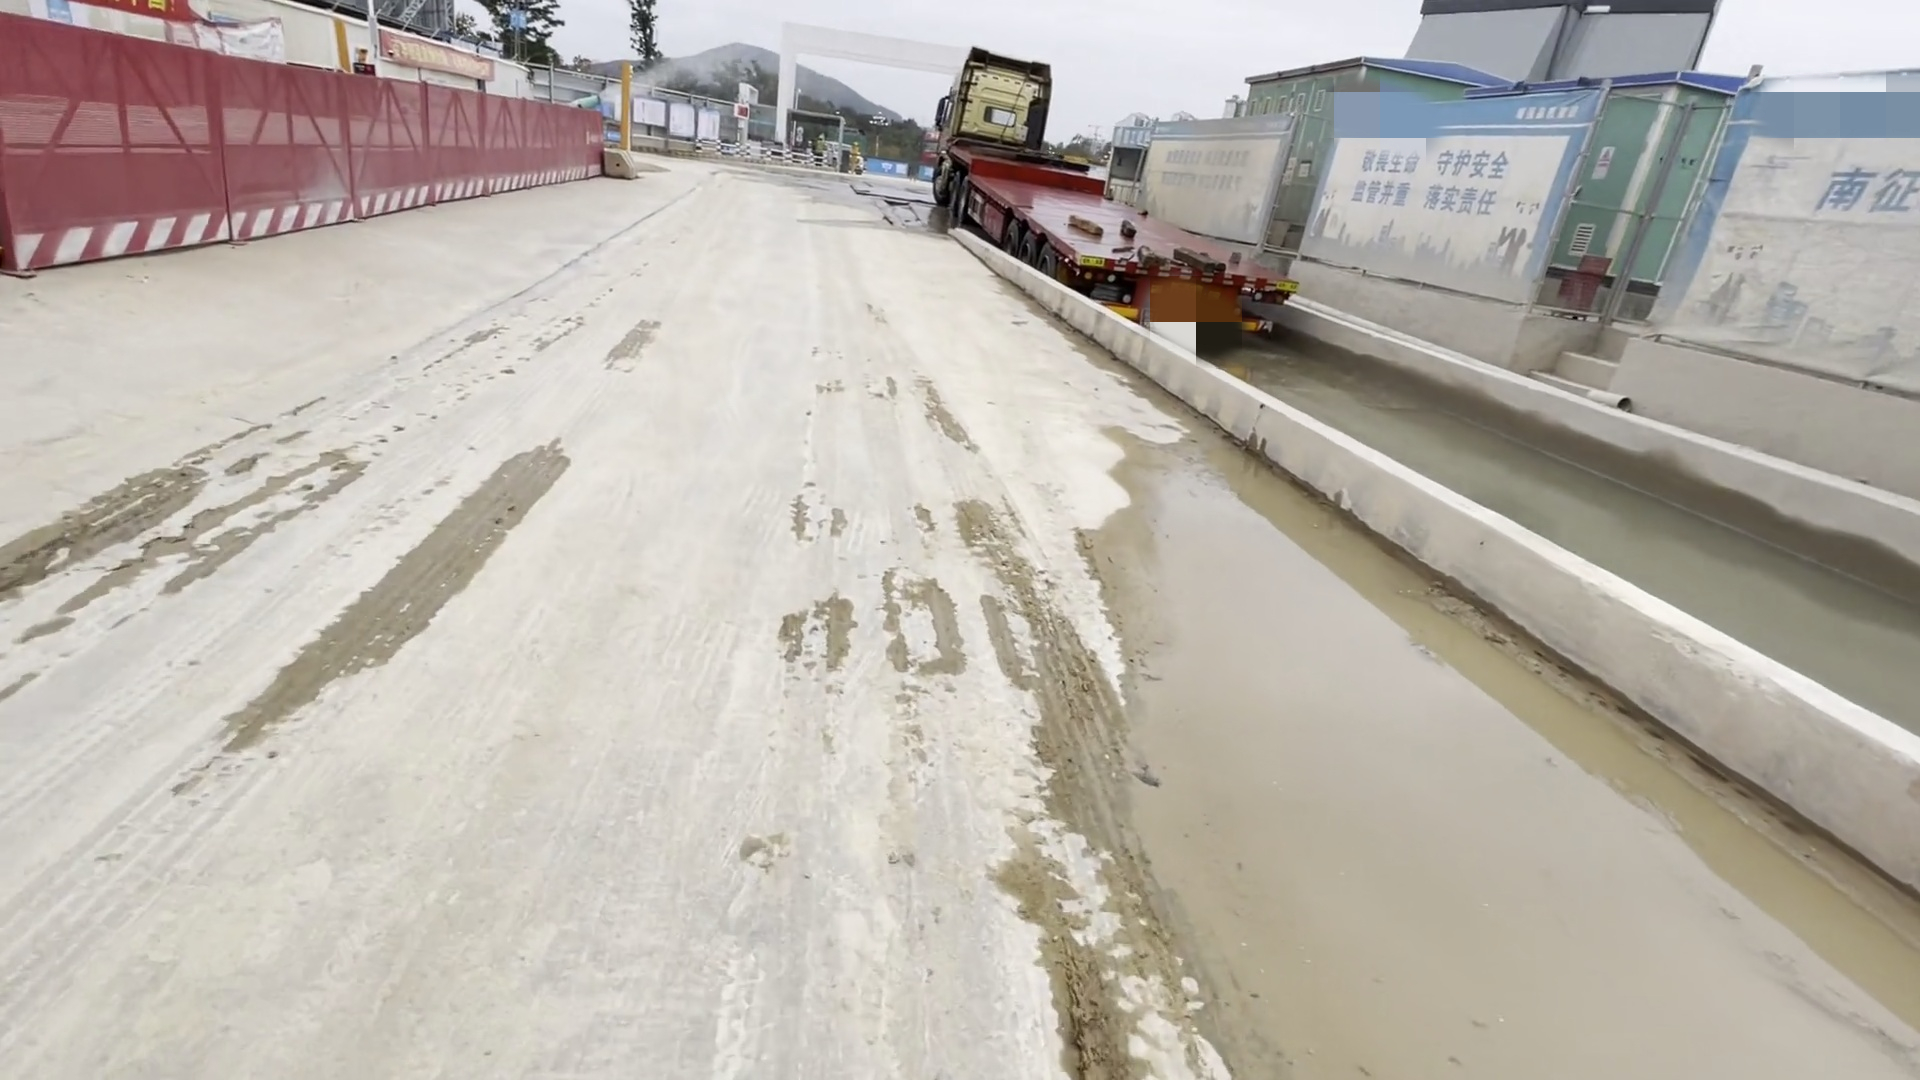slogan: (1745, 124, 1920, 348), (1342, 94, 1578, 255), (1145, 123, 1282, 232)
